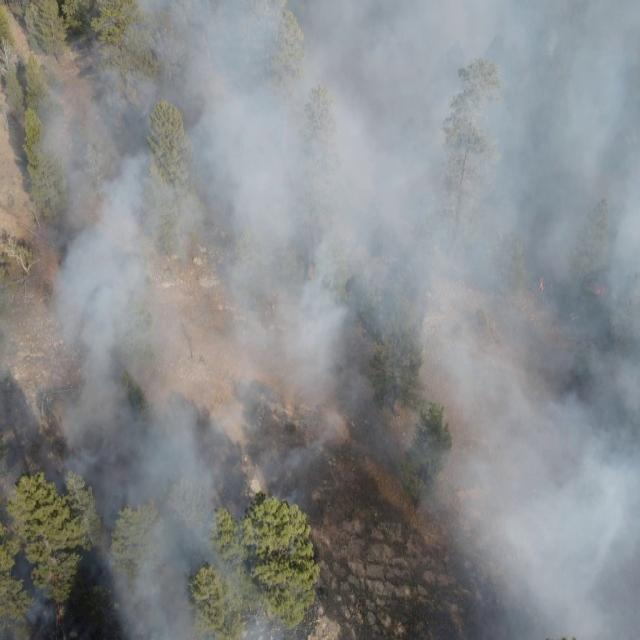fire: (47, 574, 71, 630), (592, 284, 612, 298), (536, 274, 546, 295)
smoke: (0, 0, 640, 640)
